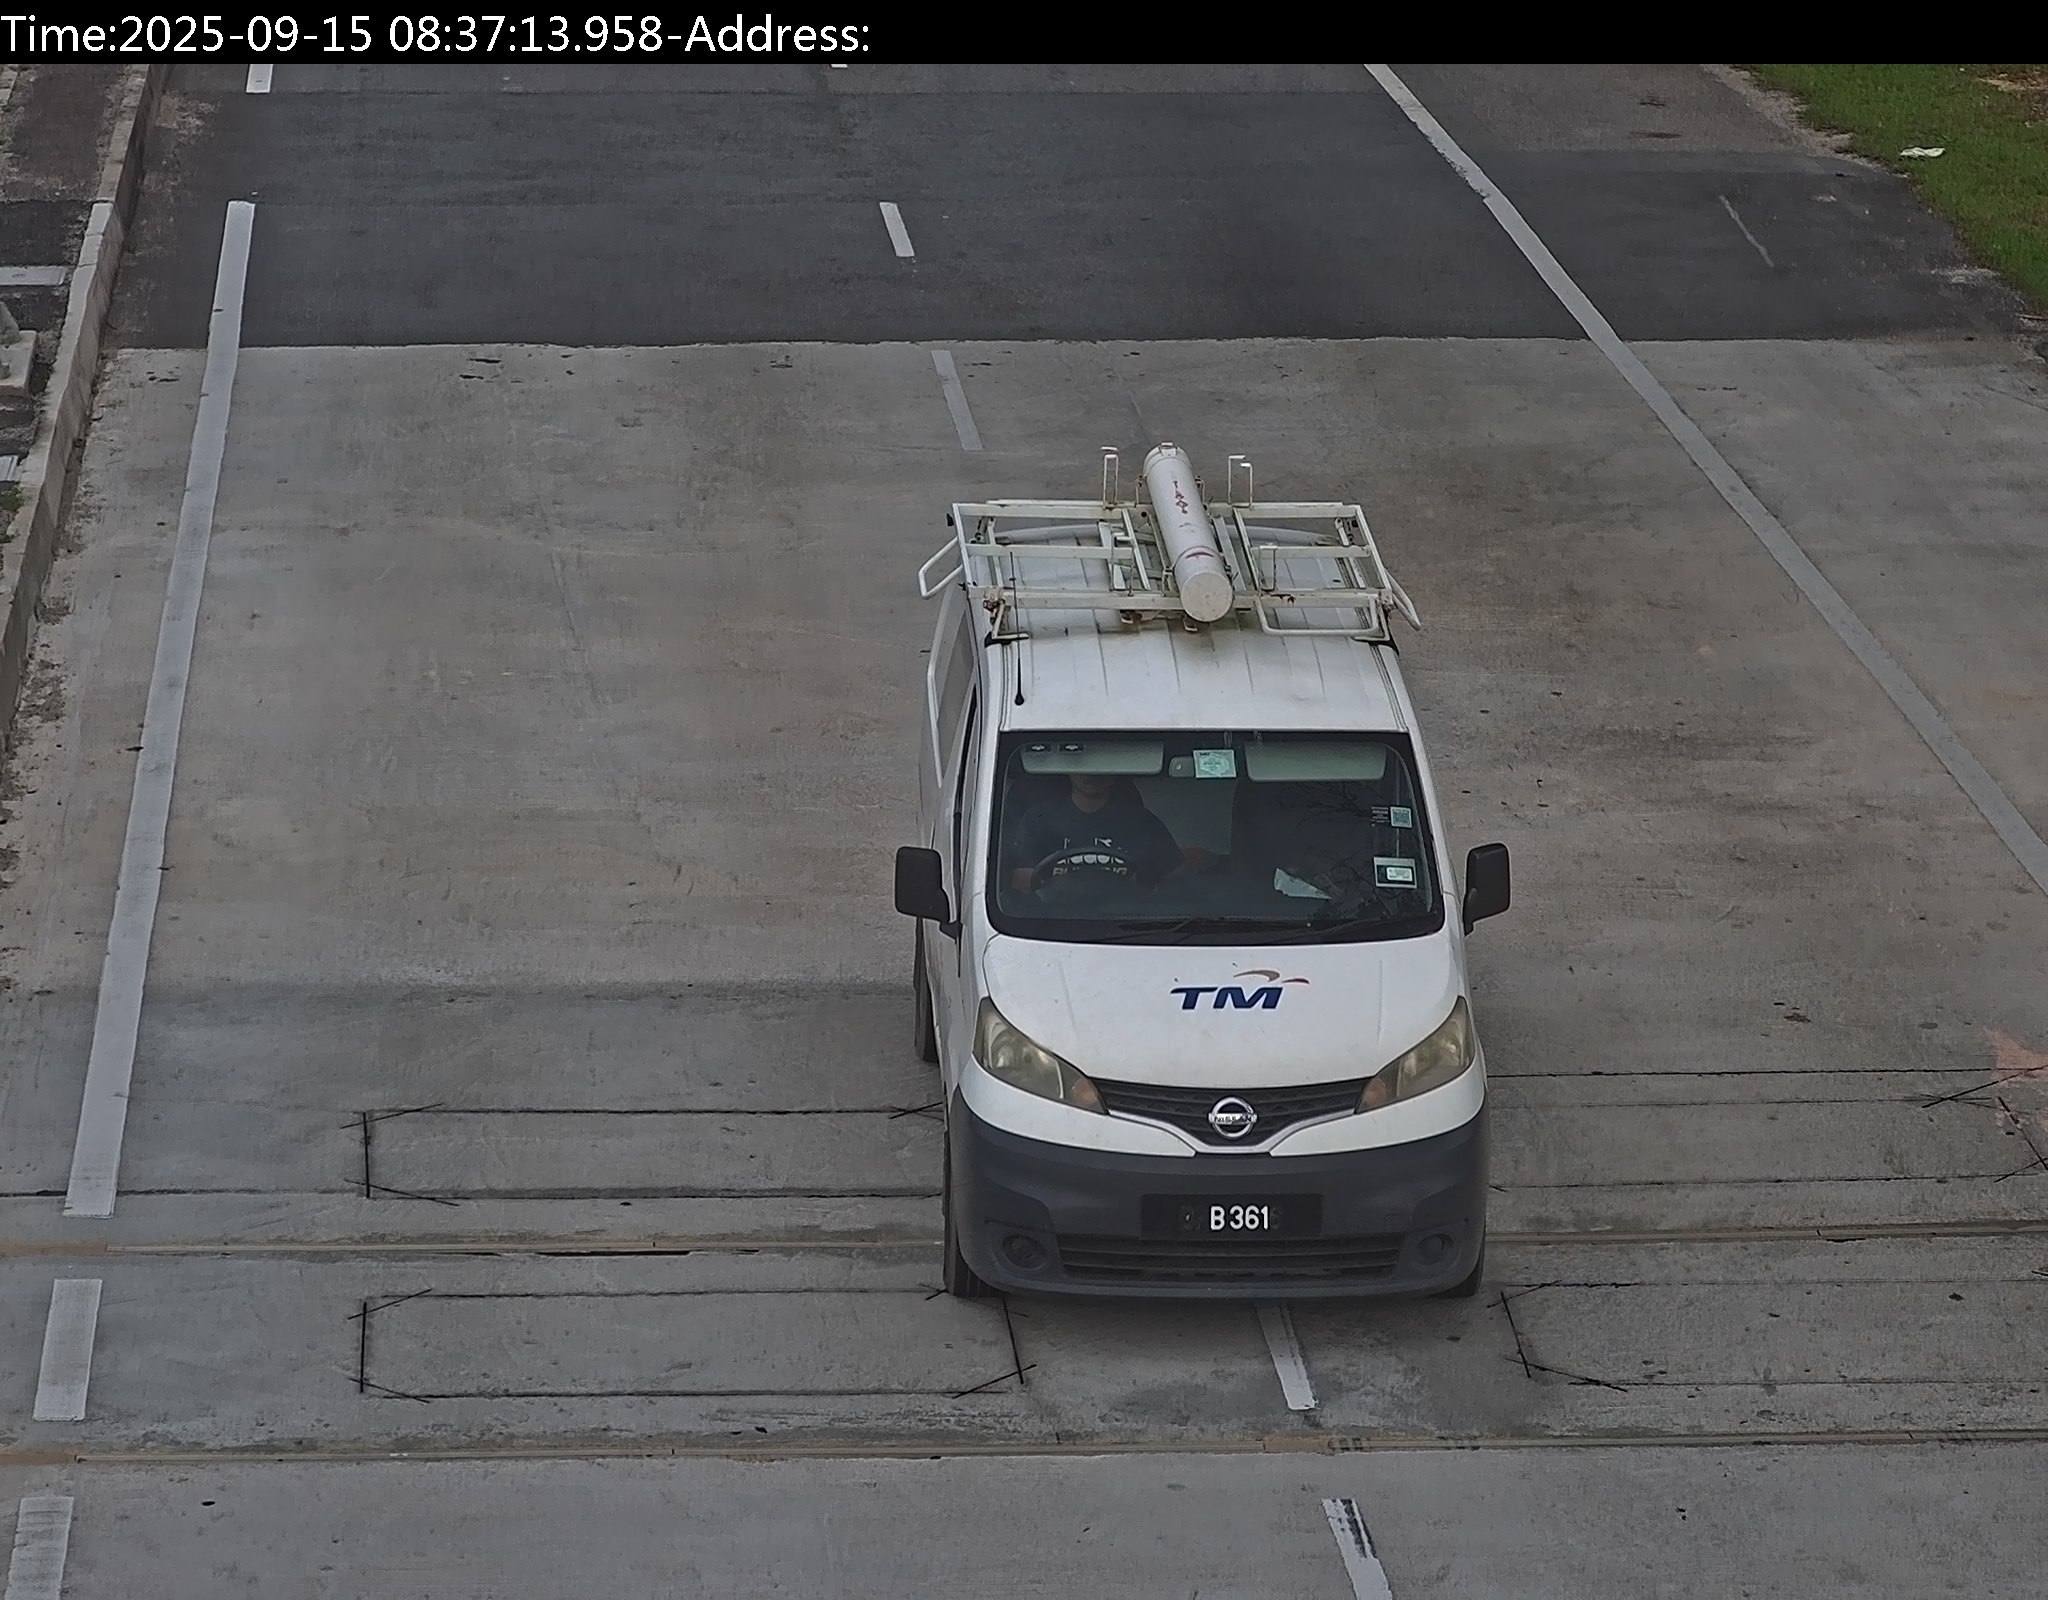class2_mediumVehicle: (928, 484, 1483, 1312)
license_plate: (1154, 1197, 1314, 1237)
